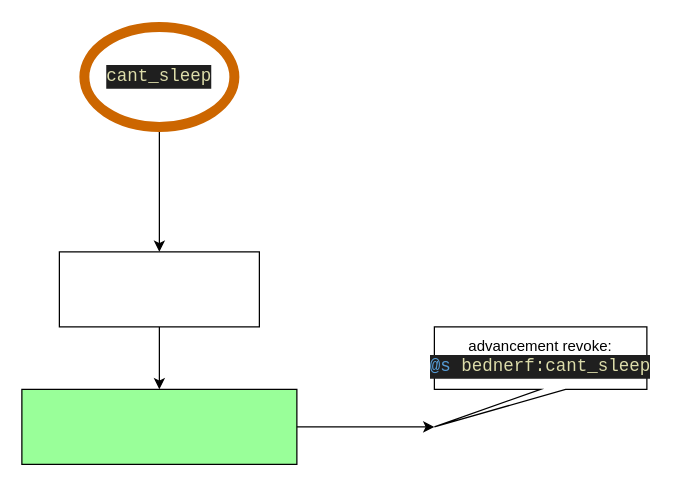
Image size: 673x486. Some labels were removed from this diagram. The centre of each missing label's shape, as x and y in pixels:
"bednerf:cant_sleep/reward" belongs at pixel 159 426.
"cant_sleep/check" belongs at pixel 158 289.
